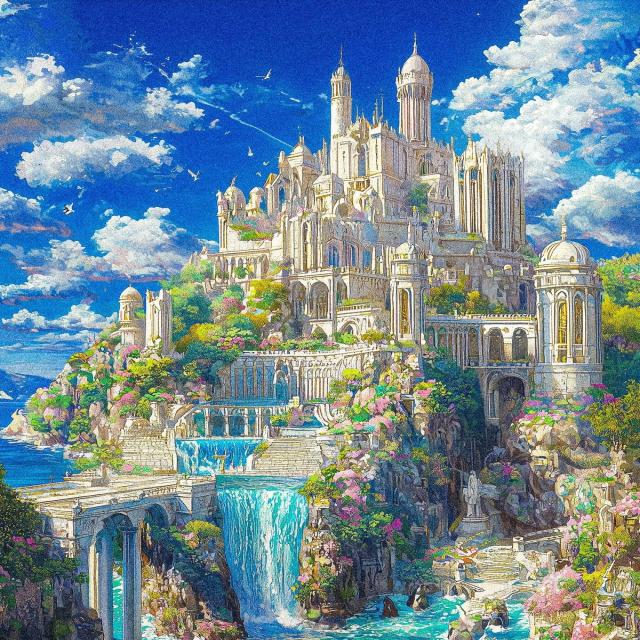castle: (5, 21, 640, 476)
